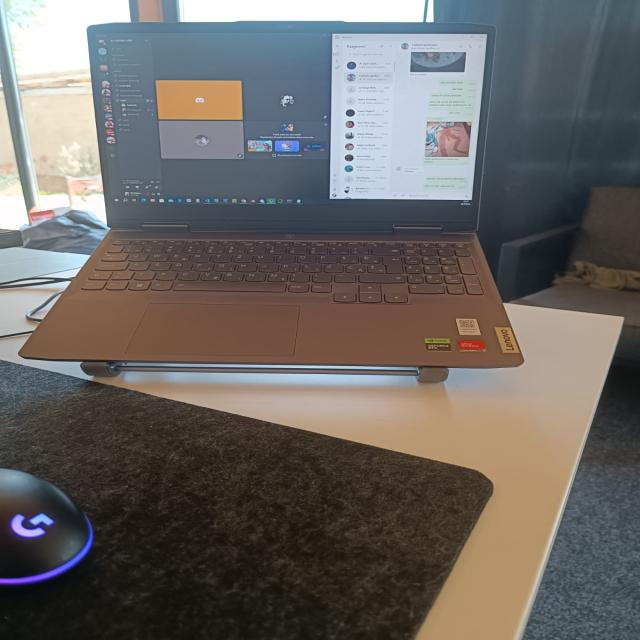Laptops_bbox: (34, 23, 541, 400)
